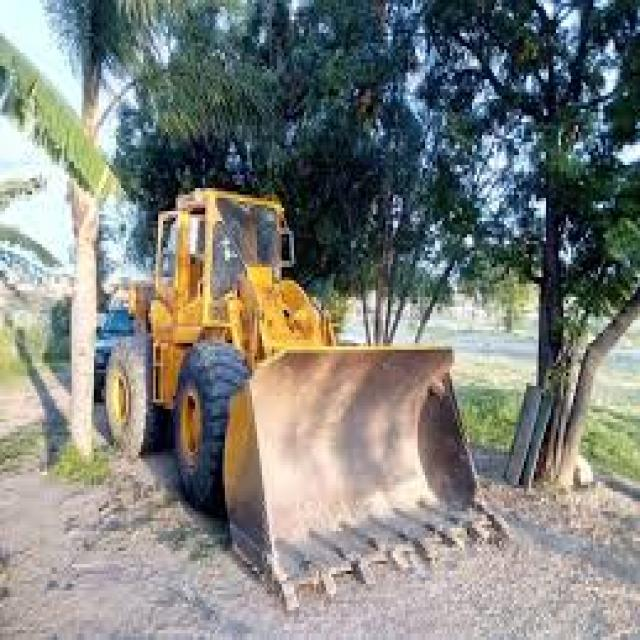buldozerpayloadergrader: (104, 181, 504, 598)
